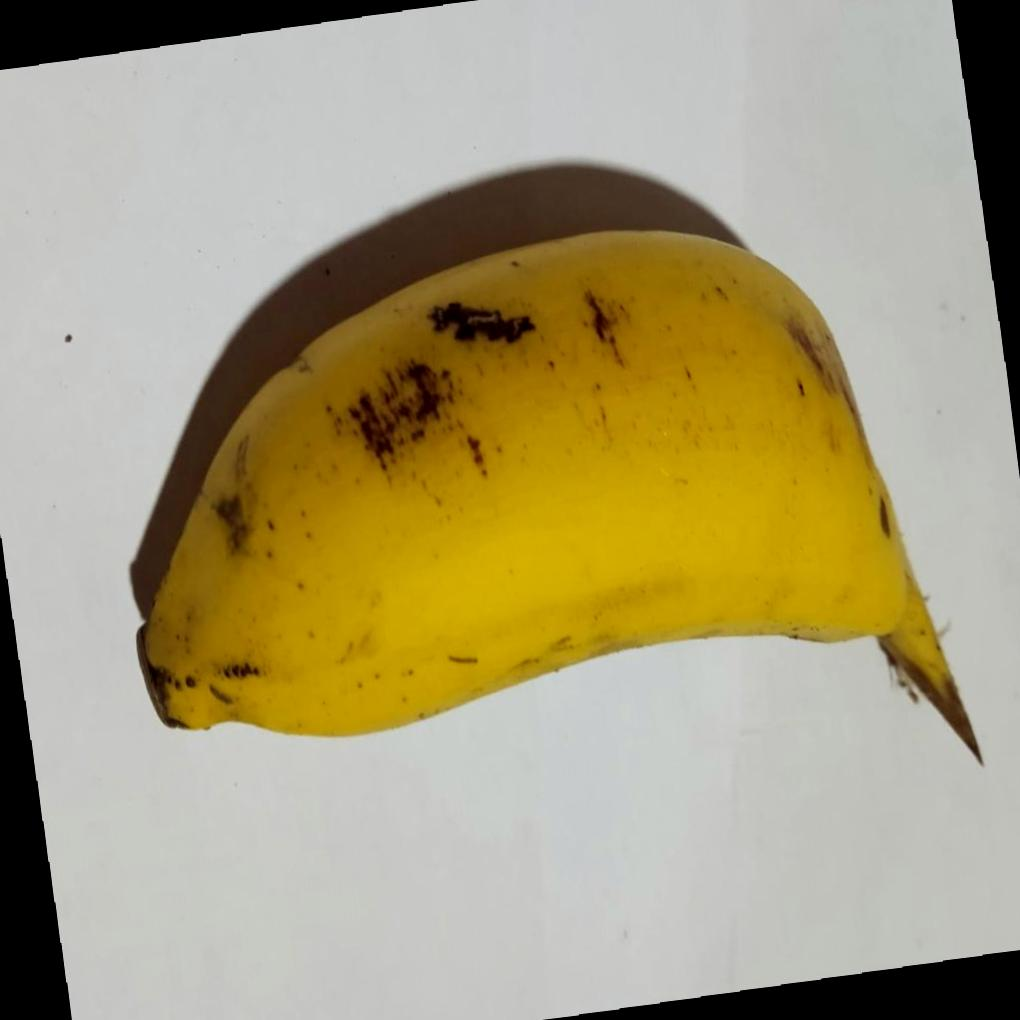Banana Ripe: (85, 178, 994, 887)
